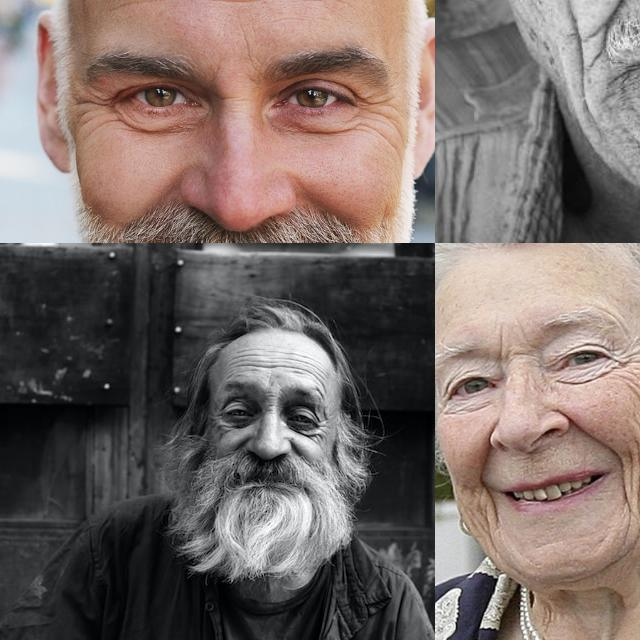crows_feet: (354, 85, 392, 133), (79, 86, 113, 125), (614, 337, 640, 372), (213, 411, 227, 433), (314, 420, 326, 442)
forehead: (278, 352, 318, 380), (150, 0, 232, 12), (237, 350, 273, 370), (247, 0, 313, 10)
frown_line: (494, 335, 526, 365), (262, 390, 278, 410)
gummy_smile: (571, 414, 613, 454), (597, 0, 640, 25), (472, 442, 494, 476), (285, 438, 307, 462), (230, 436, 250, 452)
masseter: (564, 22, 602, 102), (624, 383, 640, 441)
sad_smile: (618, 453, 640, 515), (478, 486, 508, 528)
